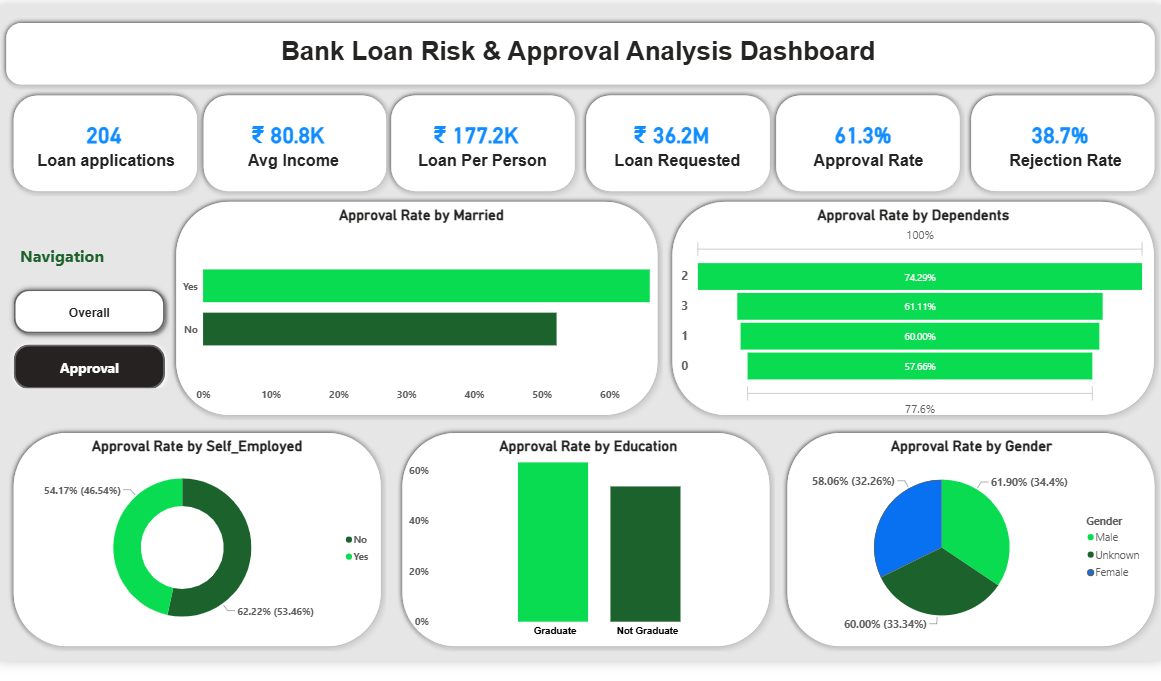

The page's visual inventory and layout, read from the dashboard file:
{"tool":"powerbi","page":{"name":"Approval","canvas":[1920,1080],"ordinal":1},"visuals":[{"type":"shape","box":[5.4,19.9,1909.2,119.4],"z":0},{"type":"shape","box":[18.1,139.3,320,175.5],"z":1000},{"type":"shape","box":[18.1,696.7,622.5,369.2],"z":2000},{"type":"shape","box":[658.7,696.7,622.5,369.2],"z":3000},{"type":"shape","box":[1292.1,696.7,622.5,369.2],"z":4000},{"type":"shape","box":[640.6,139.3,320.3,175.5],"z":5000},{"type":"shape","box":[960.9,139.3,320.3,175.5],"z":6000},{"type":"shape","box":[1274,139.3,320.3,175.5],"z":7000},{"type":"shape","box":[1594.3,139.3,320,175.5],"z":8000},{"type":"shape","box":[331.2,139.3,318.5,175.5],"z":9000},{"type":"shape","box":[285.9,314.9,810.7,369.2],"z":10000},{"type":"shape","box":[1103.9,314.9,810.7,369.2],"z":11000},{"type":"textbox","box":[18.1,47.1,1876.6,76],"z":12000},{"type":"funnel","fields":{"Category":["loan_risk.Dependents"],"Y":["loan_risk.Approval Rate"]},"box":[1121.8,331.4,773.9,352],"z":13000},{"type":"pieChart","fields":{"Category":["loan_risk.Gender"],"Y":["loan_risk.Approval Rate"]},"box":[1313.2,712.2,582.5,335.5],"z":14000},{"type":"donutChart","fields":{"Category":["loan_risk.Self_Employed"],"Y":["loan_risk.Approval Rate"]},"box":[32.9,712.2,592.8,335.5],"z":15000},{"type":"clusteredBarChart","fields":{"Category":["loan_risk.Married"],"Y":["loan_risk.Approval Rate"]},"box":[300.5,331.4,796.6,331.4],"z":16000},{"type":"clusteredColumnChart","fields":{"Category":["loan_risk.Education"],"Y":["loan_risk.Approval Rate"]},"box":[673.1,712.2,601,335.5],"z":17000},{"type":"pageNavigator","box":[18.5,459,267.6,172.9],"z":18000},{"type":"textbox","box":[32.9,389,172.9,70],"z":19000},{"type":"advanceCardE03760C5AB684758B56AA29F9E6C257B","fields":{"mainMeasure":["loan_risk.Total loan applications"]},"box":[30.9,140,298.5,175],"z":19001},{"type":"advanceCardE03760C5AB684758B56AA29F9E6C257B","fields":{"mainMeasure":["loan_risk.Rejection Rate"]},"box":[1605.5,140,308.7,175],"z":19002},{"type":"advanceCardE03760C5AB684758B56AA29F9E6C257B","fields":{"mainMeasure":["loan_risk.Avg Income"]},"box":[339.6,140,298.5,175],"z":19003},{"type":"advanceCardE03760C5AB684758B56AA29F9E6C257B","fields":{"mainMeasure":["loan_risk.Loan Amount Per Person"]},"box":[650.4,140,298.5,175],"z":19004},{"type":"advanceCardE03760C5AB684758B56AA29F9E6C257B","fields":{"mainMeasure":["loan_risk.Loan Amount requested"]},"box":[971.5,140,298.5,175],"z":19005},{"type":"advanceCardE03760C5AB684758B56AA29F9E6C257B","fields":{"mainMeasure":["loan_risk.Approval Rate"]},"box":[1286.5,140,298.5,175],"z":19006}]}

Visuals, with their boxes on the page's 1920x1080 design canvas (x1, y1, x2, y2). These are canvas units, not pixel positions in the 1161x681 screenshot, which may show the page scaled, cropped or inside an application window:
shape: box(5, 20, 1915, 139)
shape: box(18, 139, 338, 315)
shape: box(18, 697, 641, 1066)
shape: box(659, 697, 1281, 1066)
shape: box(1292, 697, 1915, 1066)
shape: box(641, 139, 961, 315)
shape: box(961, 139, 1281, 315)
shape: box(1274, 139, 1594, 315)
shape: box(1594, 139, 1914, 315)
shape: box(331, 139, 650, 315)
shape: box(286, 315, 1097, 684)
shape: box(1104, 315, 1915, 684)
textbox: box(18, 47, 1895, 123)
funnel - loan_risk.Dependents x loan_risk.Approval Rate: box(1122, 331, 1896, 683)
pieChart - loan_risk.Gender x loan_risk.Approval Rate: box(1313, 712, 1896, 1048)
donutChart - loan_risk.Self_Employed x loan_risk.Approval Rate: box(33, 712, 626, 1048)
clusteredBarChart - loan_risk.Married x loan_risk.Approval Rate: box(300, 331, 1097, 663)
clusteredColumnChart - loan_risk.Education x loan_risk.Approval Rate: box(673, 712, 1274, 1048)
pageNavigator: box(18, 459, 286, 632)
textbox: box(33, 389, 206, 459)
advanceCardE03760C5AB684758B56AA29F9E6C257B - loan_risk.Total loan applications: box(31, 140, 329, 315)
advanceCardE03760C5AB684758B56AA29F9E6C257B - loan_risk.Rejection Rate: box(1606, 140, 1914, 315)
advanceCardE03760C5AB684758B56AA29F9E6C257B - loan_risk.Avg Income: box(340, 140, 638, 315)
advanceCardE03760C5AB684758B56AA29F9E6C257B - loan_risk.Loan Amount Per Person: box(650, 140, 949, 315)
advanceCardE03760C5AB684758B56AA29F9E6C257B - loan_risk.Loan Amount requested: box(972, 140, 1270, 315)
advanceCardE03760C5AB684758B56AA29F9E6C257B - loan_risk.Approval Rate: box(1286, 140, 1585, 315)
